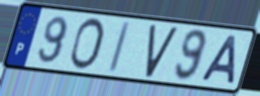9: (173, 28, 208, 83), (38, 14, 69, 66)
A: (199, 33, 240, 86)
I: (107, 19, 133, 75)
O: (67, 16, 106, 72)
V: (144, 24, 180, 80)
